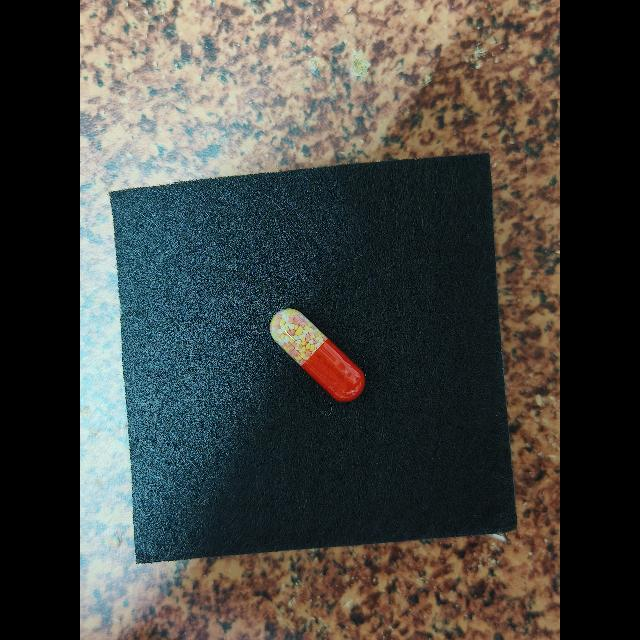Intact Capsule: (270, 308, 365, 401)
